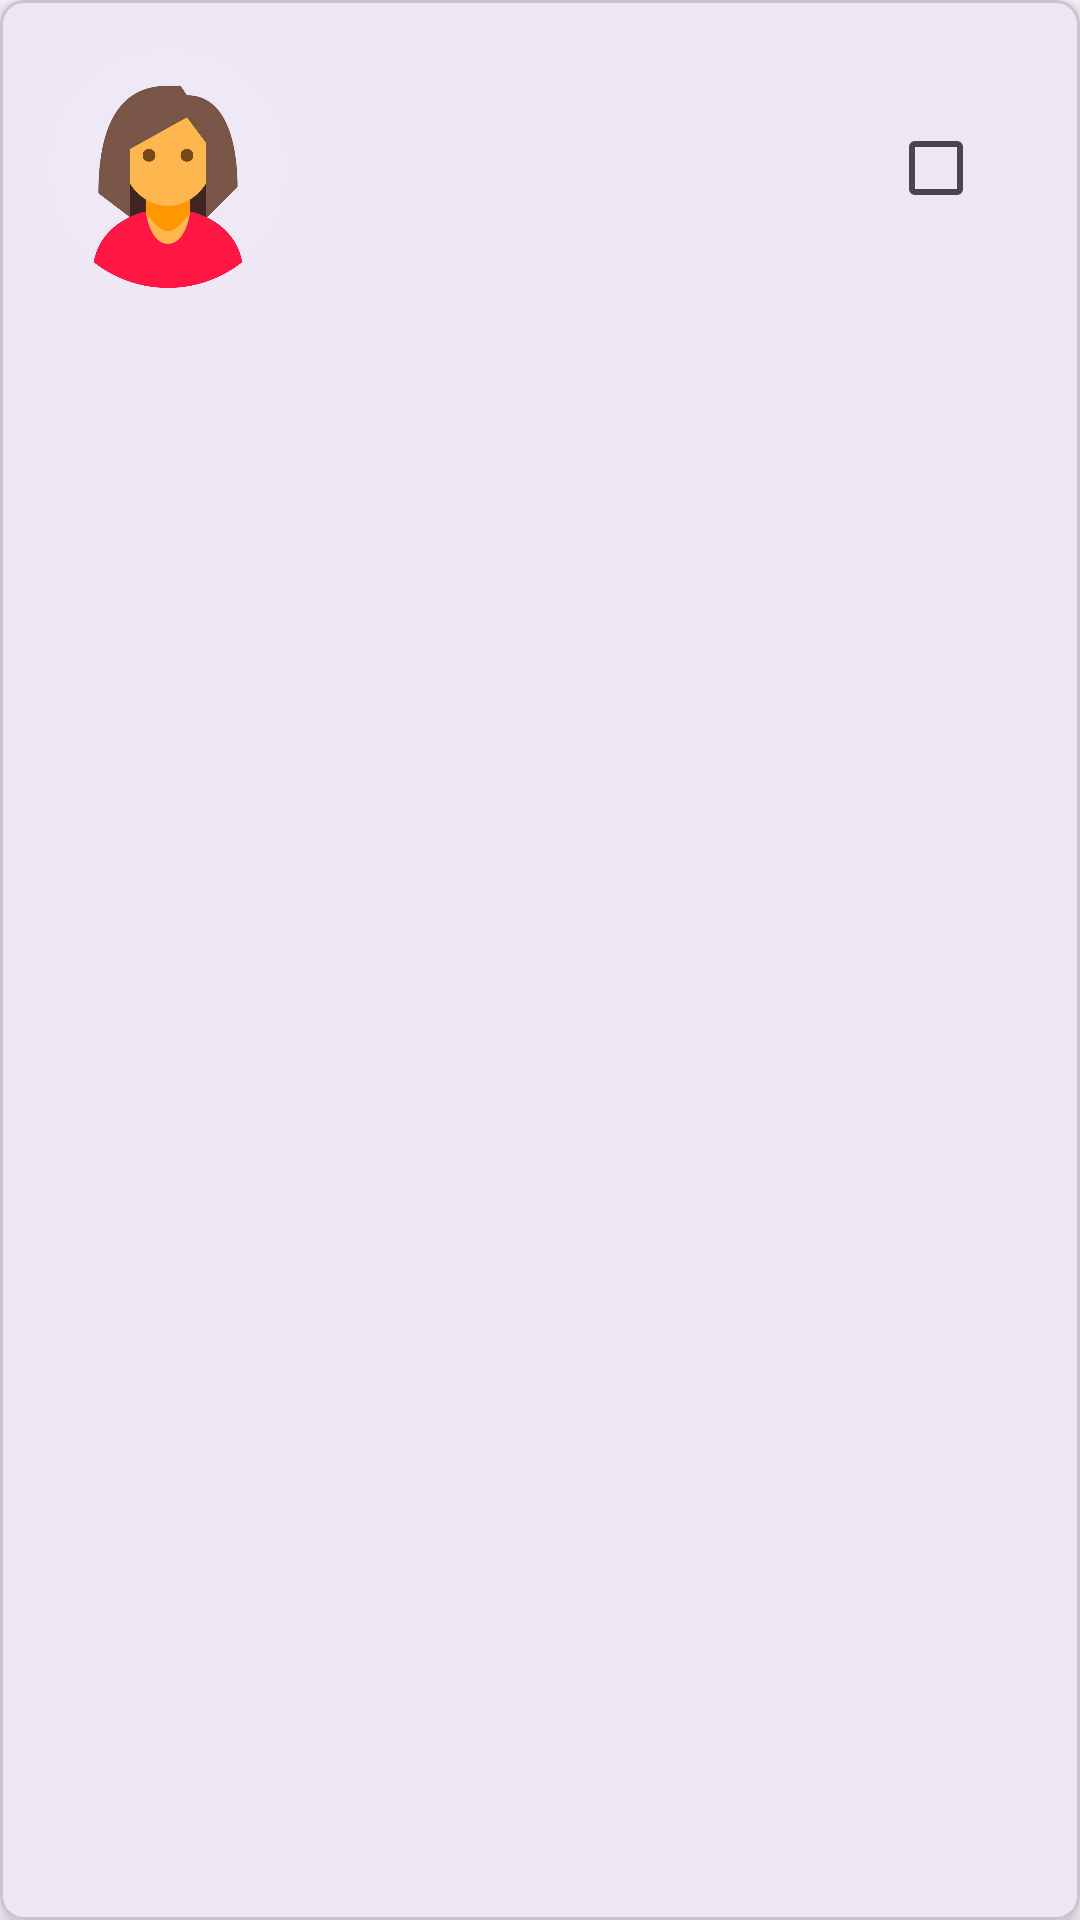

Named icons in this screenshot (1080px×1920px) and their centers, [x,y]:
user profile: [168,187]
